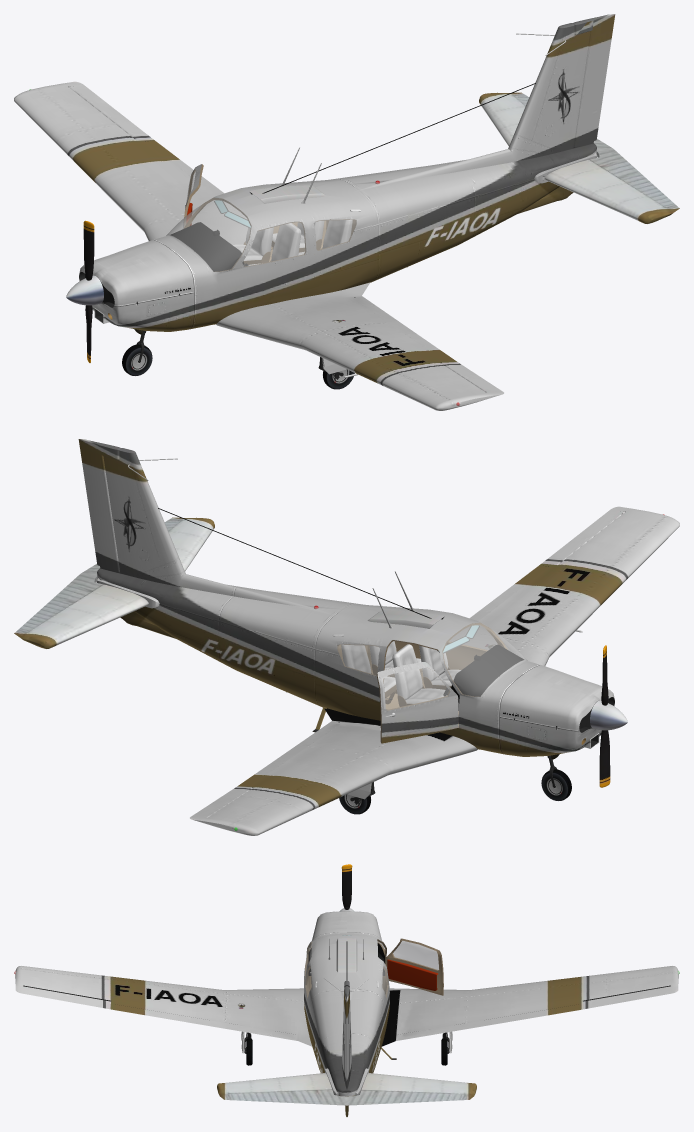
3 renders of one model, top to bottom at view 1: azimuth 30°, elevation 25°; view 2: azimuth 150°, elevation 25°; view 3: azimuth 270°, elevation 25°, orthographic. The views are drawn at different scales.
Visible parts, largest first — view 1: Object_10, Object_53, Object_22, Object_6, Object_35; view 2: Object_10, Object_53, Object_22, Object_35, Object_6; view 3: Object_10, Object_35, Object_53.
Part boxes in pixels (left/top/right/bottom): Object_10: left=14, top=14, right=679, bottom=410; Object_53: left=31, top=89, right=461, bottom=405; Object_22: left=233, top=219, right=352, bottom=265; Object_6: left=171, top=222, right=243, bottom=271; Object_35: left=183, top=164, right=356, bottom=271; Object_10: left=14, top=439, right=679, bottom=835; Object_53: left=232, top=514, right=662, bottom=830; Object_22: left=341, top=641, right=460, bottom=706; Object_35: left=337, top=622, right=507, bottom=743; Object_6: left=451, top=644, right=523, bottom=710; Object_10: left=15, top=864, right=678, bottom=1116; Object_35: left=304, top=935, right=443, bottom=997; Object_53: left=14, top=933, right=679, bottom=997.
Size of the model in its own units: 7.1 by 3.05 by 9.63.
Materials: 41 (37 with a texture image).
